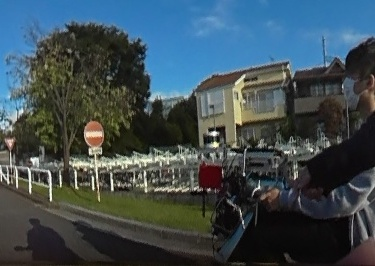person: (326, 40, 375, 266)
